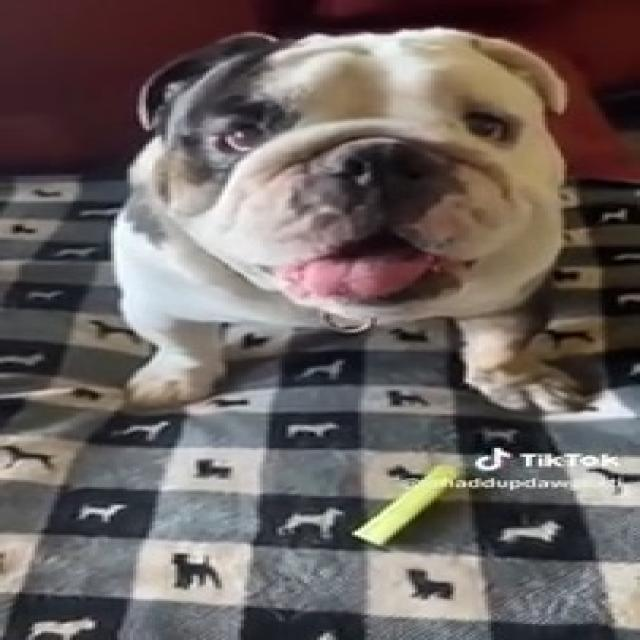dogs: (128, 25, 604, 434)
